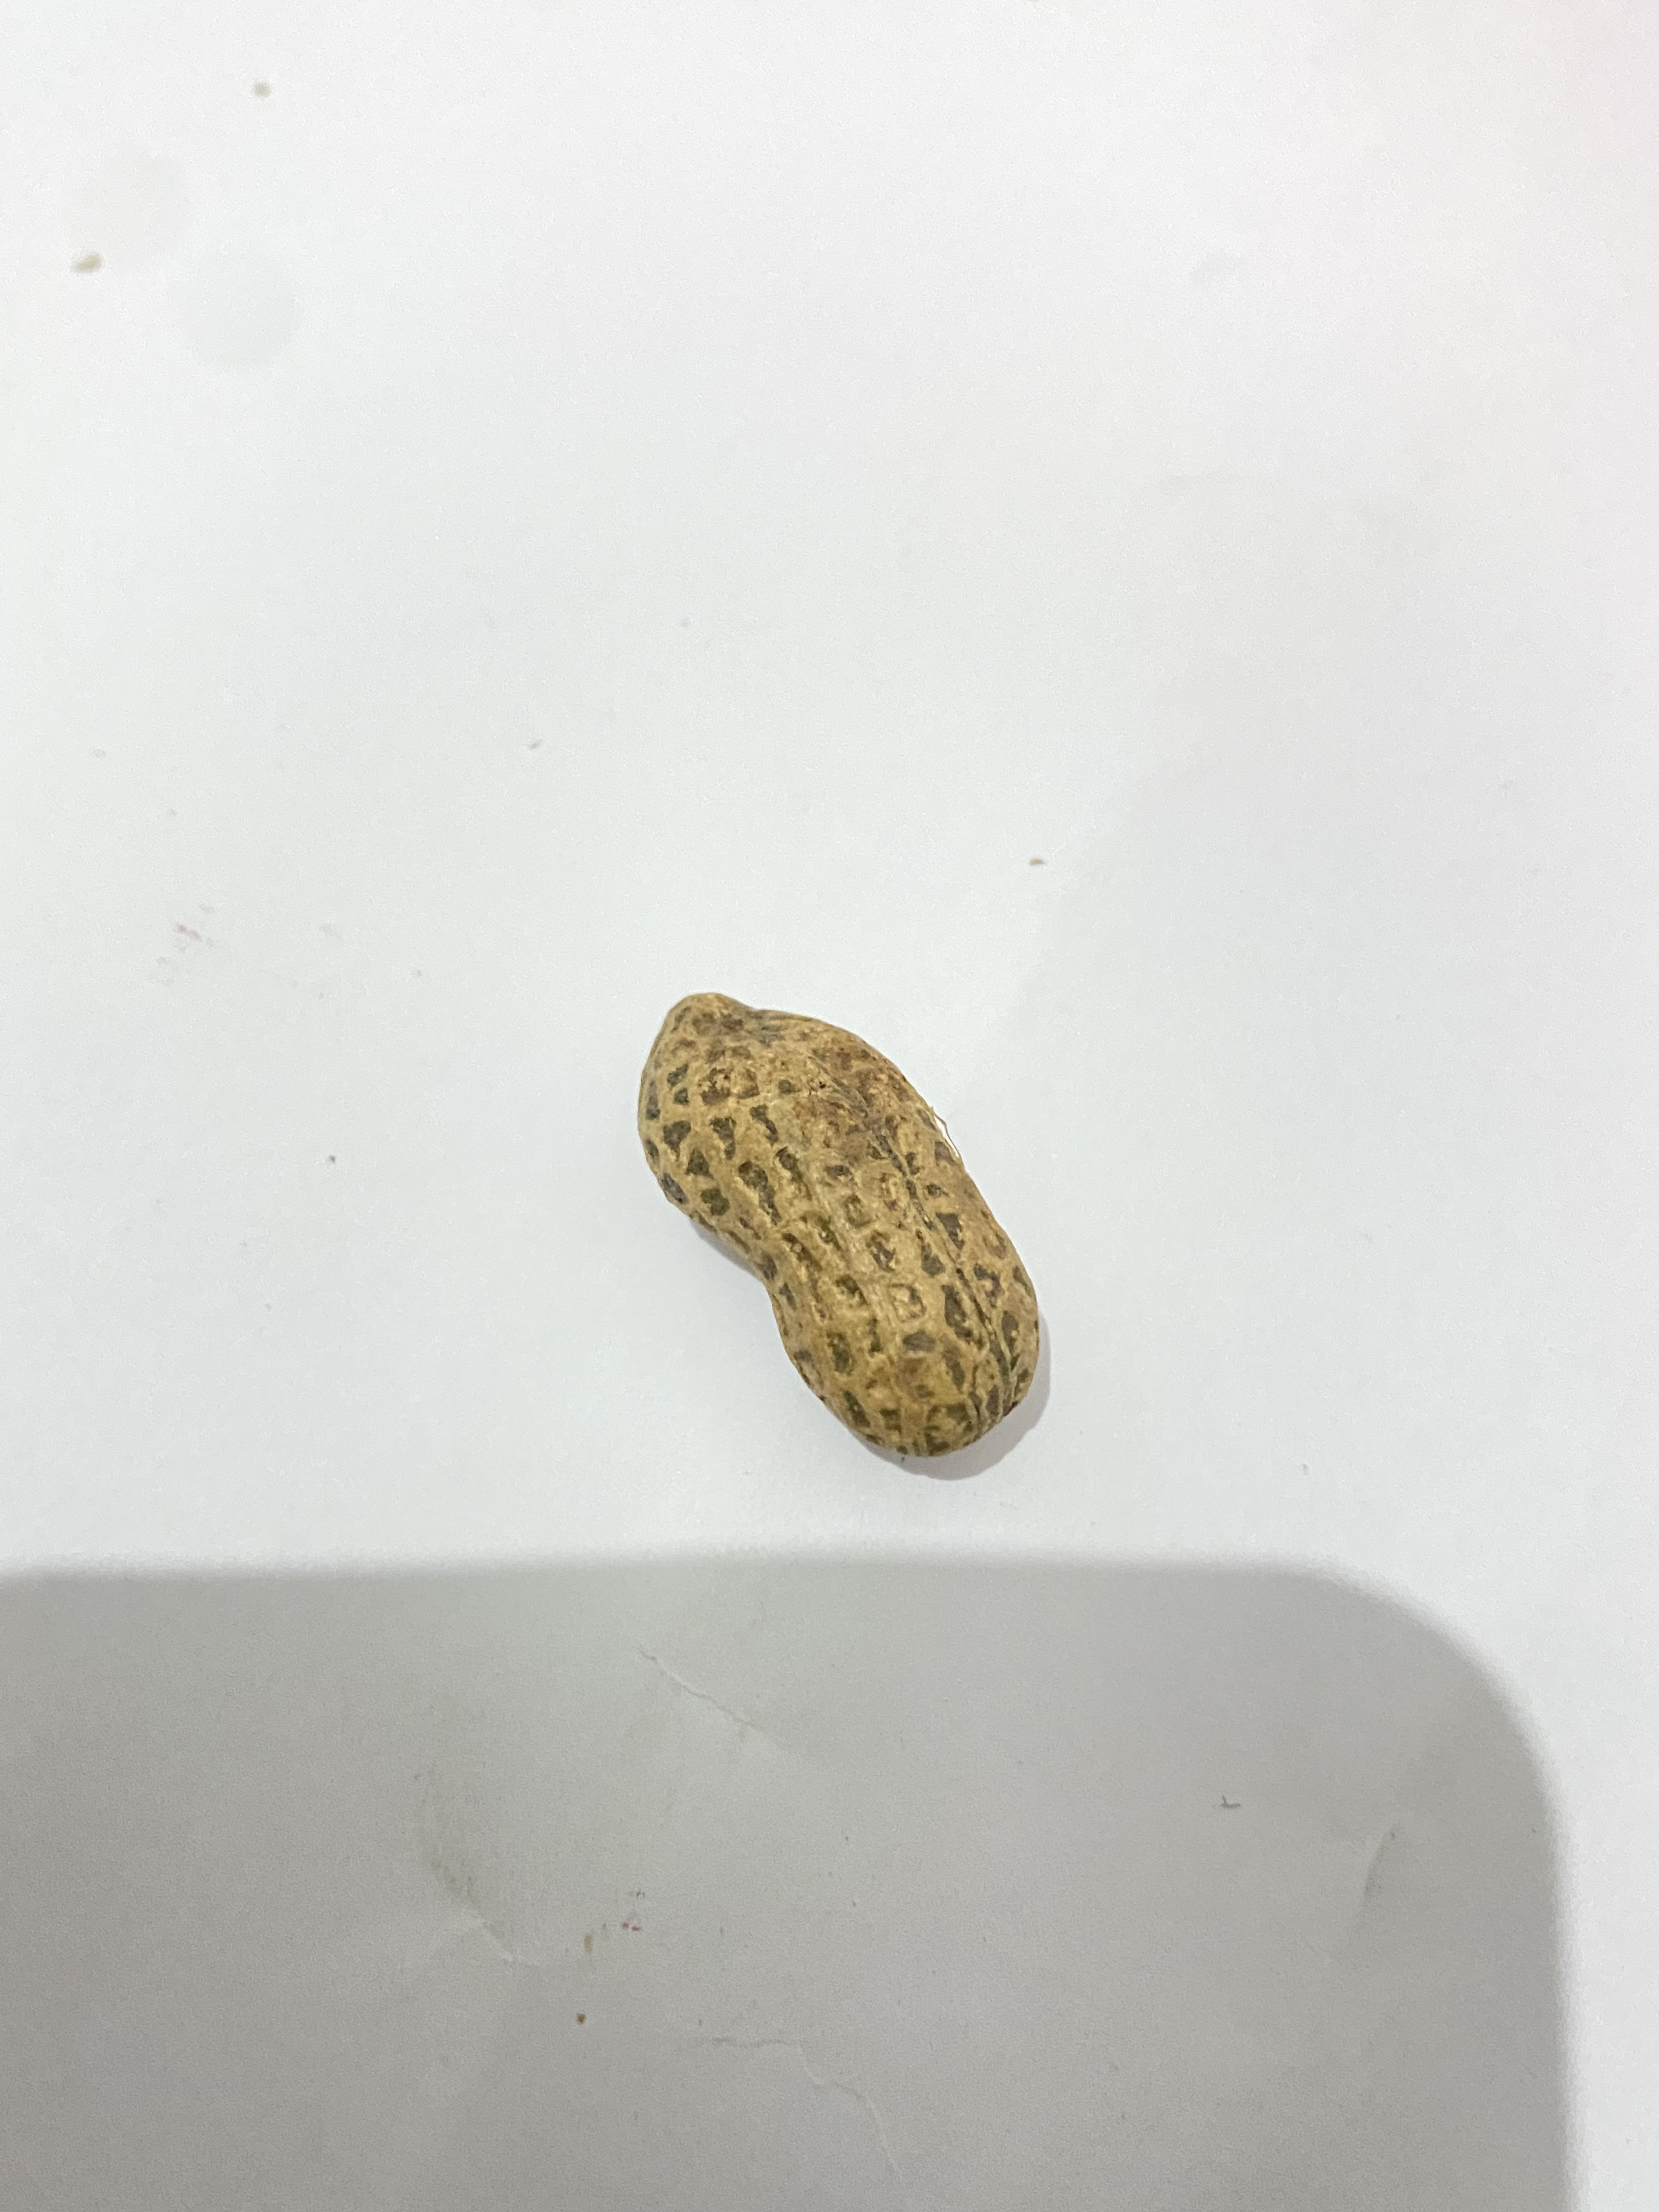kacang2: (594, 958, 1112, 1517)
